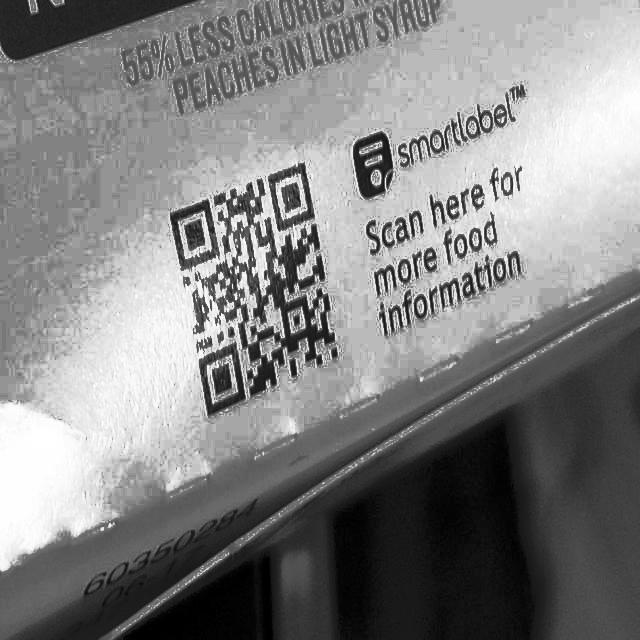qr_code: (154, 141, 350, 423)
